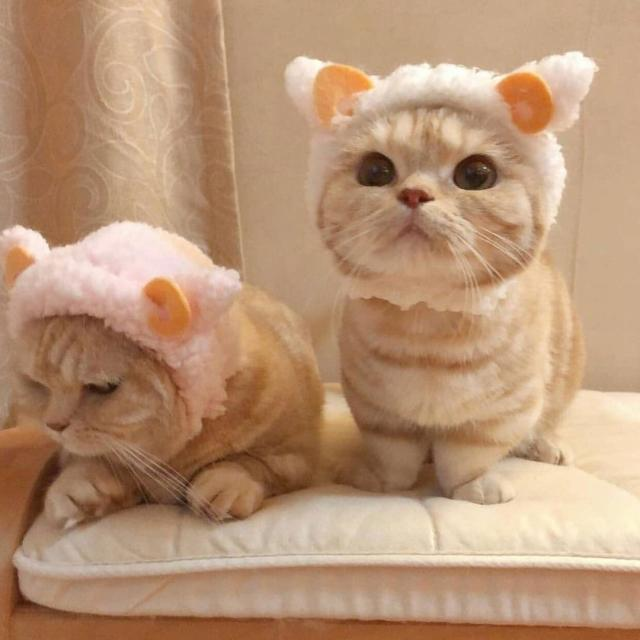Cats: (282, 41, 596, 508), (8, 193, 326, 542)
